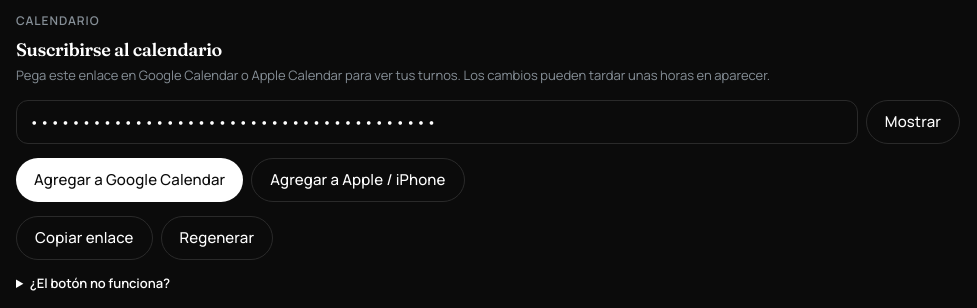
Test: CalendarLinkCard › regenerar pide confirmación y luego cambia el enlace
Later steps or results of the test are not shown.
Click the button "Regenerar" at (217, 238), box left=160, top=216, right=273, bottom=260
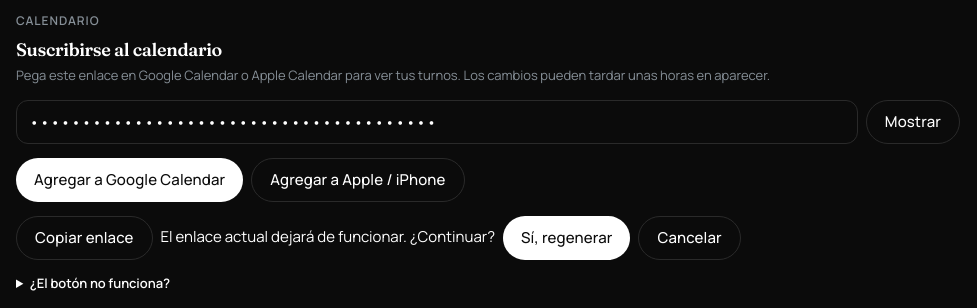
Result: the text "El enlace actual dejará de funcionar. ¿Continuar?" is shown at left=160, top=226, right=495, bottom=249
